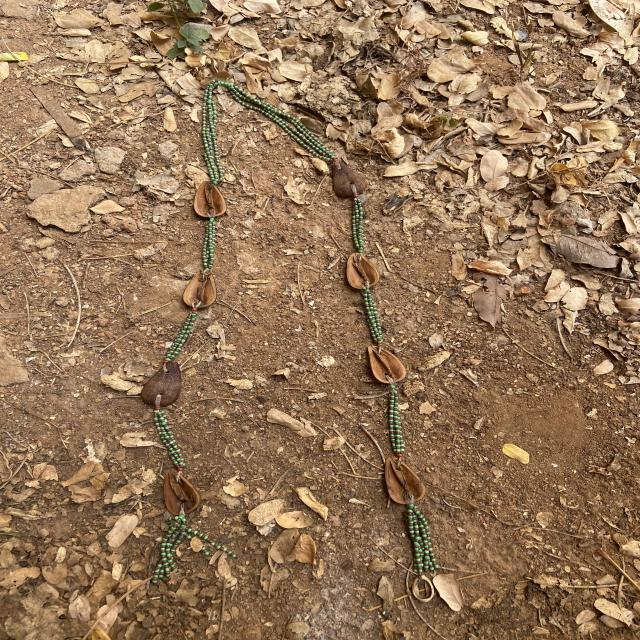facedown: (320, 153, 374, 204), (140, 360, 191, 408)
faceup: (373, 452, 432, 508), (156, 469, 208, 521), (358, 341, 412, 387), (337, 246, 387, 291), (188, 173, 231, 221), (181, 264, 222, 312)
